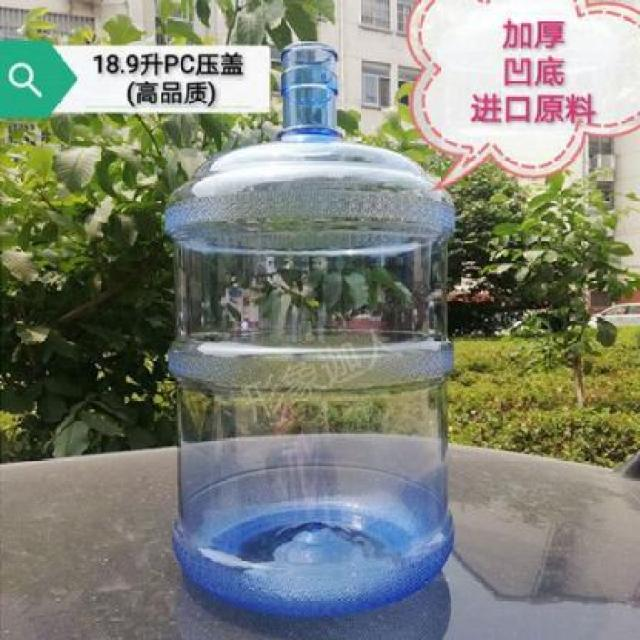coolerbottle: (158, 37, 461, 622)
